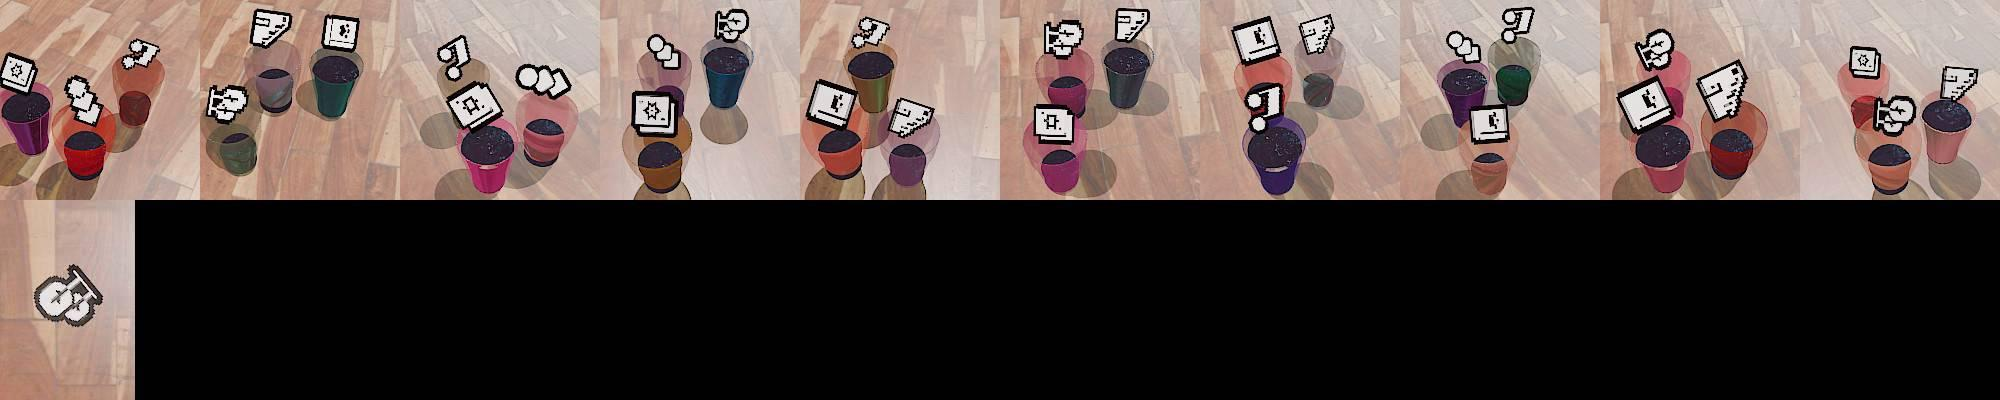icon: (33, 264, 105, 325), (1695, 59, 1749, 124), (1617, 78, 1676, 135), (445, 80, 505, 132), (805, 78, 860, 131), (1230, 14, 1282, 66), (630, 89, 680, 138), (1244, 80, 1286, 135), (515, 61, 571, 99), (64, 74, 105, 125), (888, 96, 935, 139), (1032, 102, 1075, 145), (1874, 93, 1916, 136), (1634, 28, 1676, 71), (249, 8, 293, 48), (1469, 102, 1511, 144), (436, 33, 473, 80), (0, 52, 40, 96), (205, 84, 249, 124), (1298, 13, 1337, 57), (1042, 18, 1083, 59), (320, 13, 360, 54), (1939, 65, 1980, 103), (120, 38, 161, 74), (851, 15, 892, 50), (1500, 5, 1536, 43), (1445, 29, 1482, 65), (713, 8, 749, 43), (1115, 8, 1151, 43), (647, 34, 682, 69), (1848, 46, 1880, 80)
